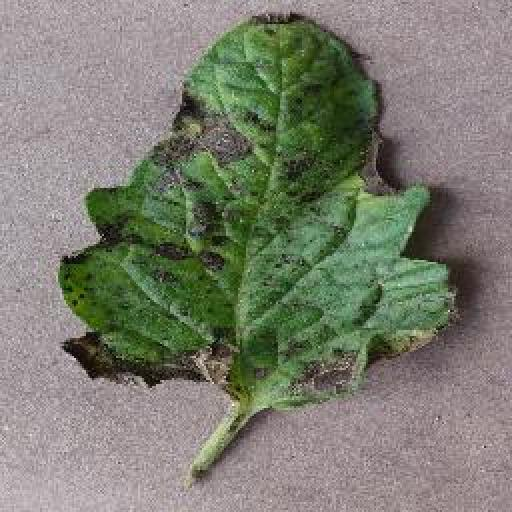Early Blight: (54, 11, 460, 409)
